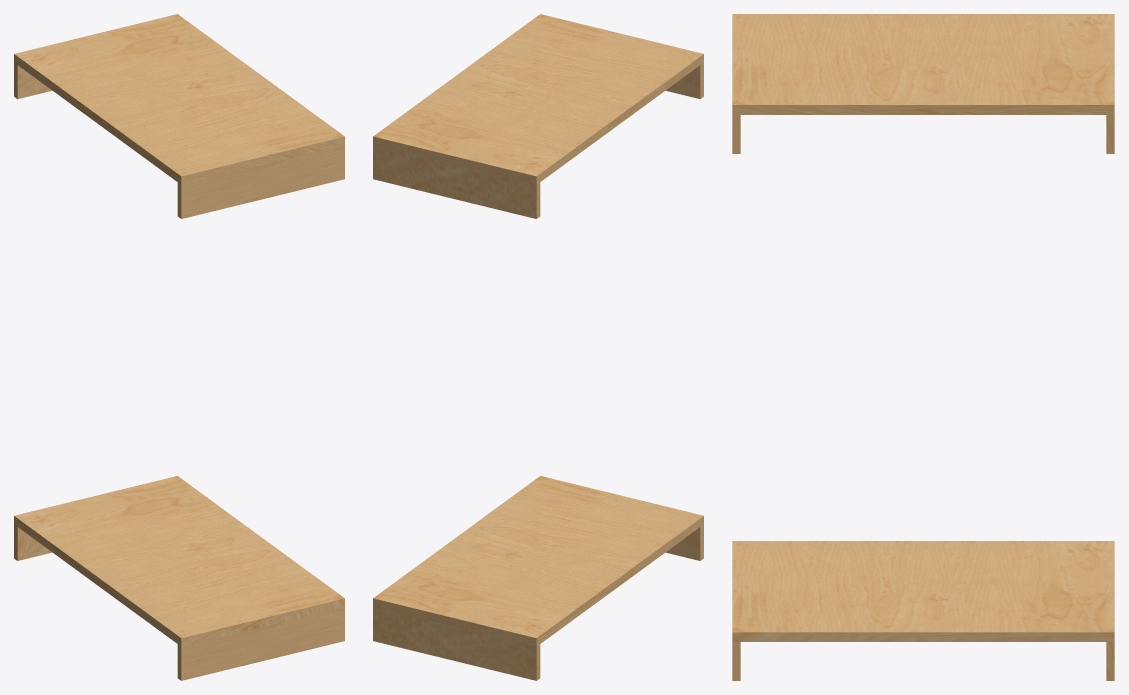
The model's file is Garderobe_light.gltf.
The picture shows the model from 3 angles, left to right: view 1: azimuth 30°, elevation 25°; view 2: azimuth 150°, elevation 25°; view 3: azimuth 270°, elevation 25°; orthographic projection. The views are drawn at different scales.
Parts seen in each view (by area): view 1: Garderobe; view 2: Garderobe; view 3: Garderobe.
Part boxes in pixels (box(x1,y1,x2,y2)): Garderobe: box(14, 14, 344, 680); Garderobe: box(373, 14, 703, 680); Garderobe: box(732, 14, 1114, 680).
Size of the model in its own units: 0.5004 by 1.47 by 0.8869.
1 material, 1 textured.
